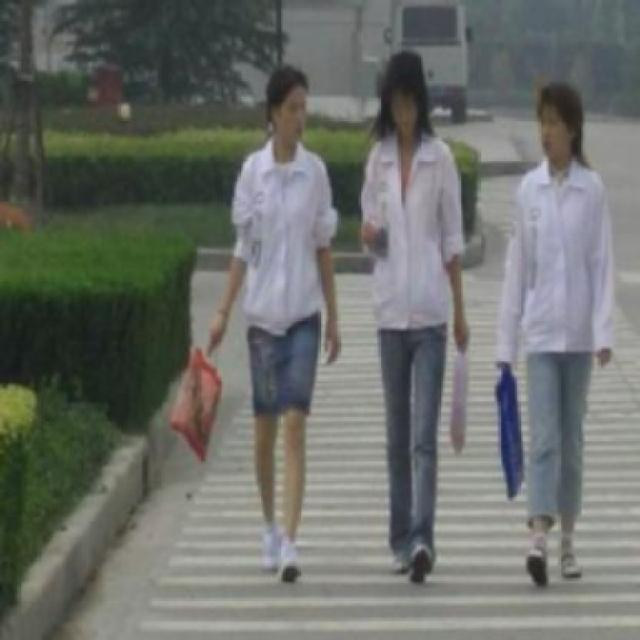Person: (224, 58, 345, 585), (500, 77, 622, 592), (360, 43, 474, 585)
